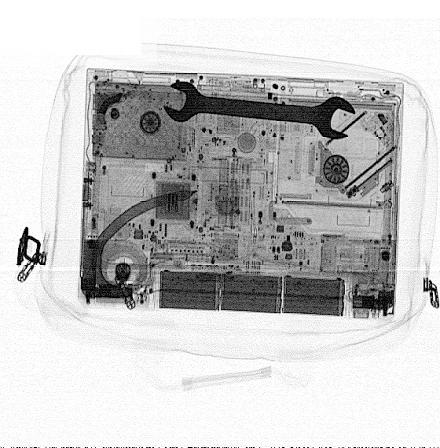Wrench: (161, 79, 357, 142)
